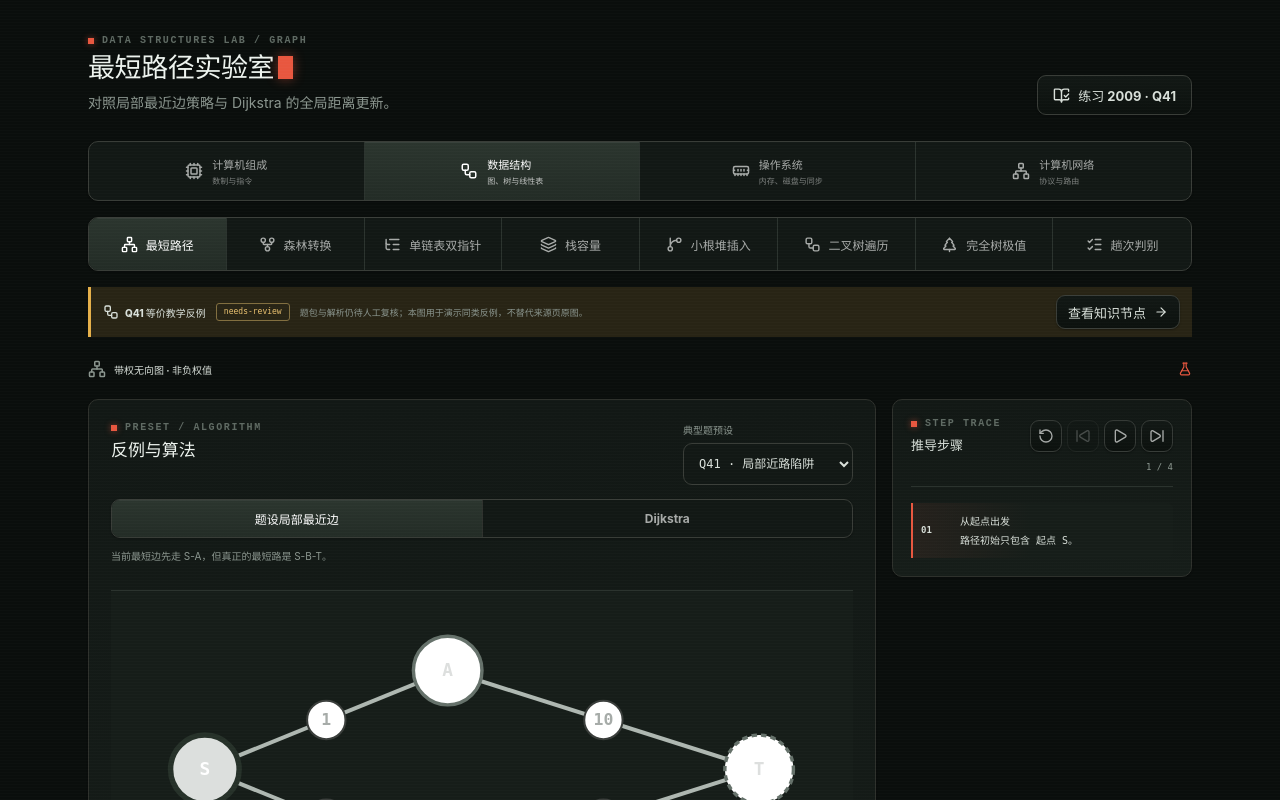
DataStructuresLabPage › keeps the graph state synchronized with StepExplorer controls
The width and height of the screenshot is (1280, 800).
Step 1. Click the button named "下一步" → coordinates (1157, 436), box [1141,420,1173,452]
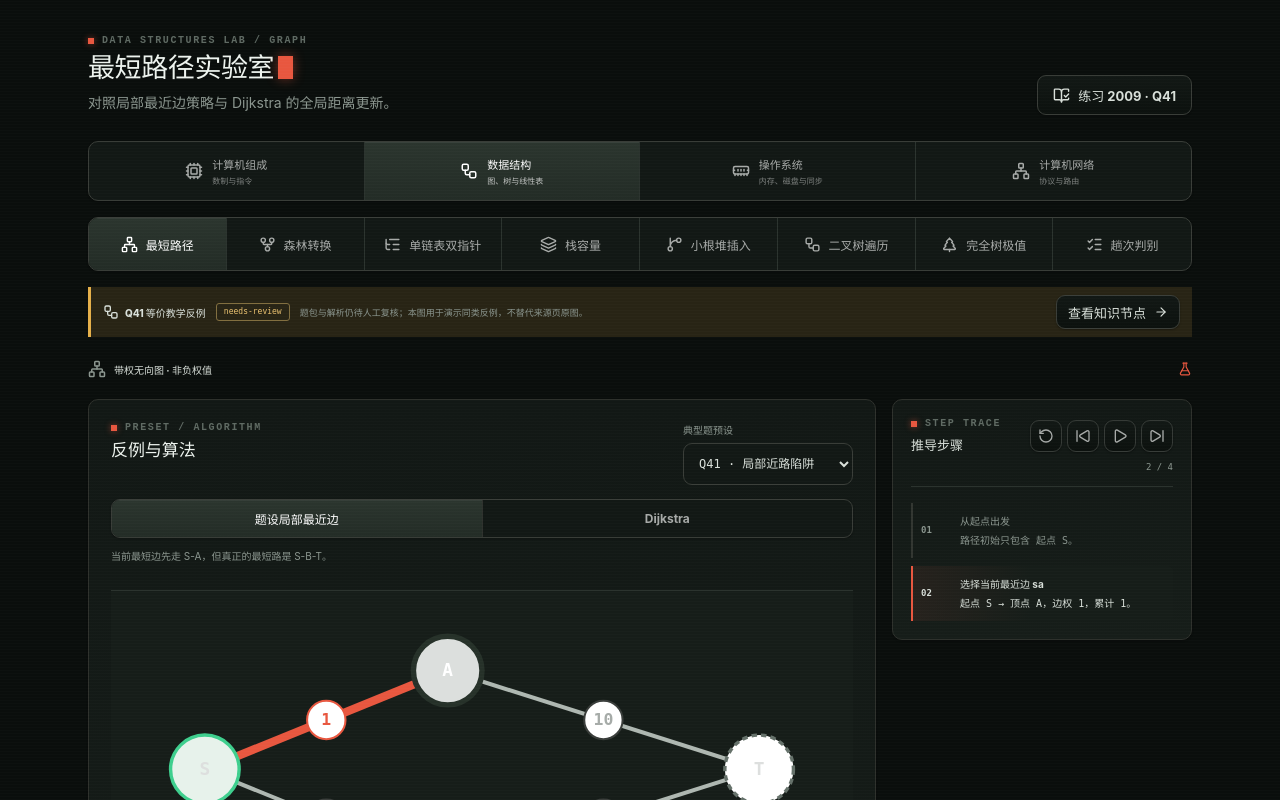
Now the text "选择当前最近边 sa" is shown, box [960,578,1044,590]
Step 2. Click the button "Dijkstra" → coordinates (667, 519), box [482,500,852,538]
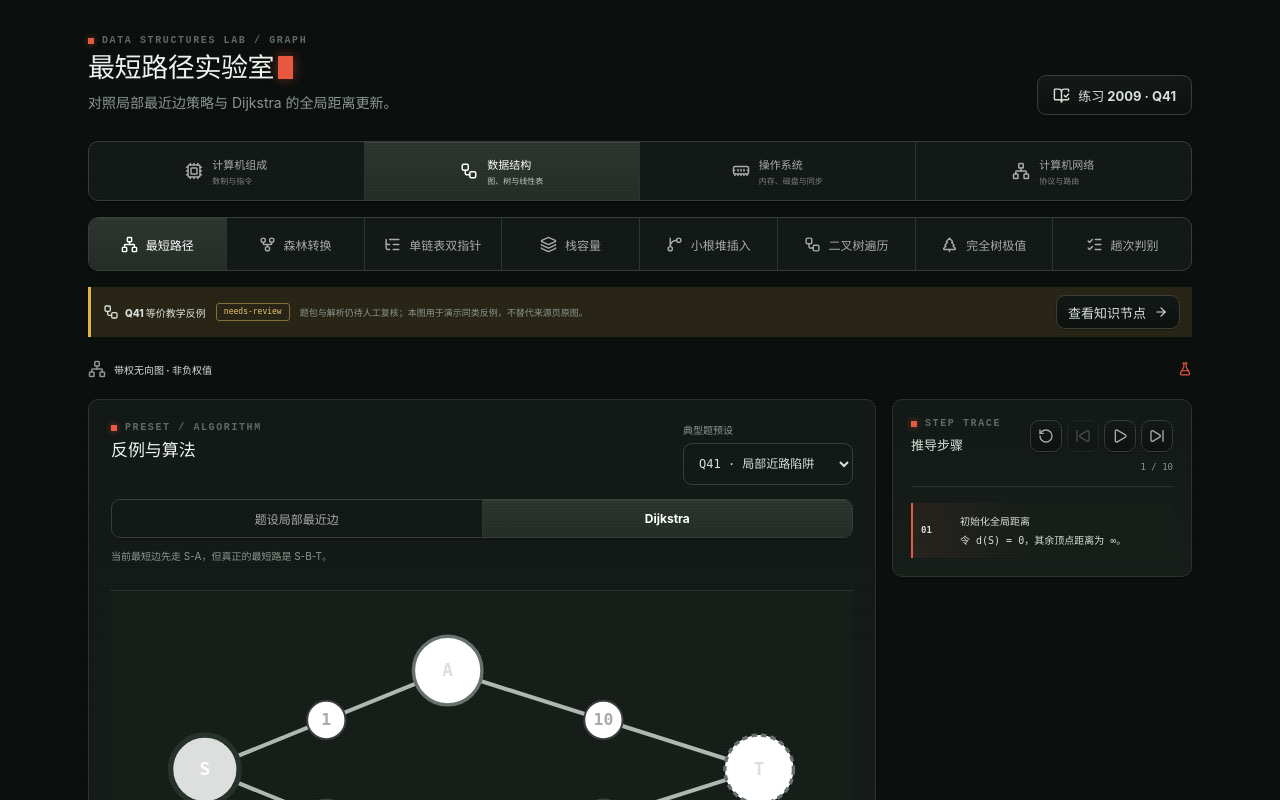
Now the text "初始化全局距离" is shown, box [960,515,1030,527]
